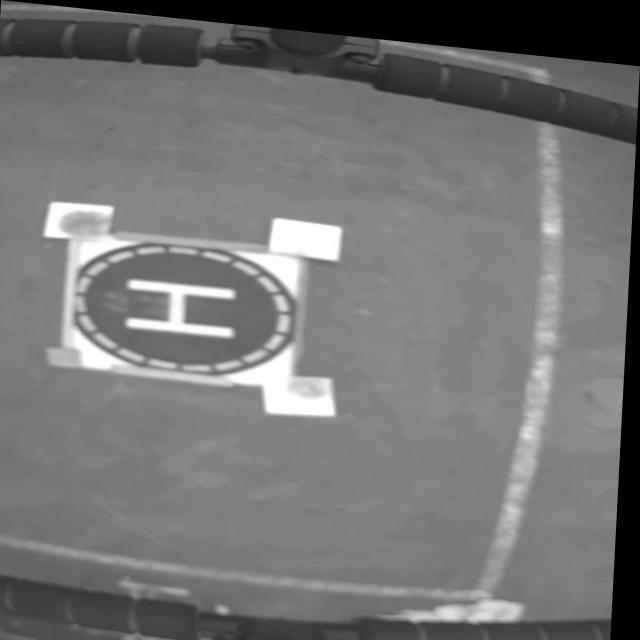Helipad: (127, 275, 236, 333)
